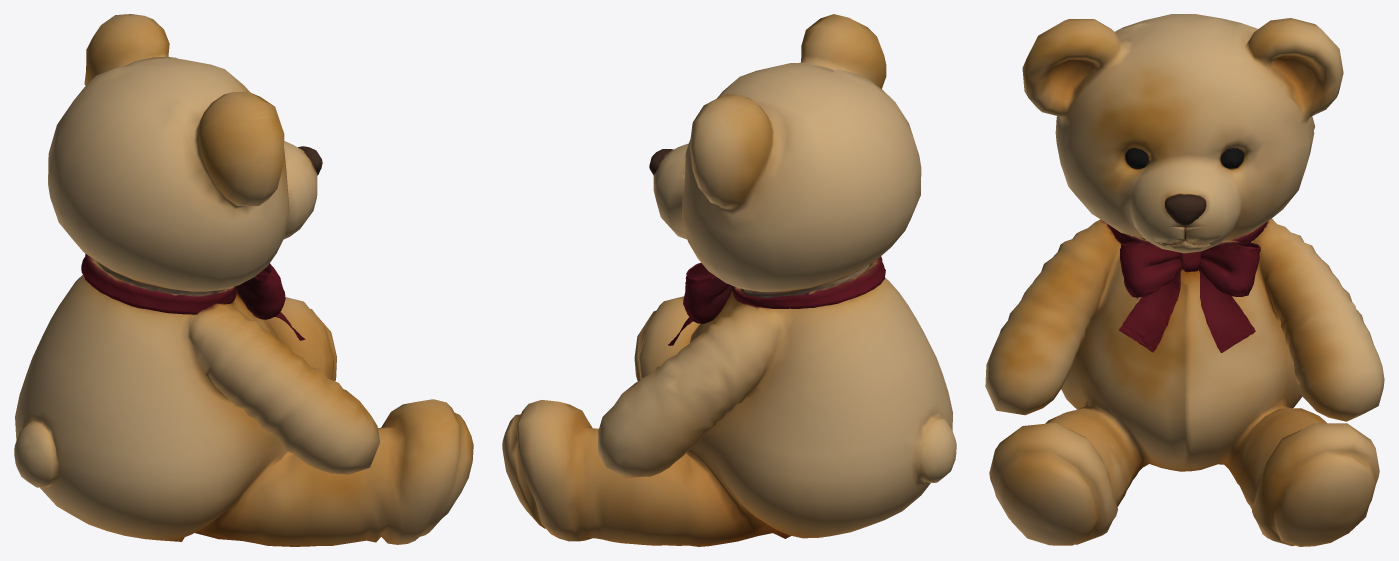
File: royal-teddy.glb
The picture shows the model from 3 angles, left to right: view 1: azimuth 30°, elevation 25°; view 2: azimuth 150°, elevation 25°; view 3: azimuth 270°, elevation 25°; orthographic projection. The views are drawn at different scales.
Parts seen in each view (by area): view 1: tripo_node_062a589c-1f6a-4b80-8273-0aeee71d2b18; view 2: tripo_node_062a589c-1f6a-4b80-8273-0aeee71d2b18; view 3: tripo_node_062a589c-1f6a-4b80-8273-0aeee71d2b18.
Part boxes in pixels (x1,y1,x2,y2): tripo_node_062a589c-1f6a-4b80-8273-0aeee71d2b18: [14, 14, 473, 546]; tripo_node_062a589c-1f6a-4b80-8273-0aeee71d2b18: [502, 14, 956, 546]; tripo_node_062a589c-1f6a-4b80-8273-0aeee71d2b18: [985, 14, 1384, 546].
Bounding box in the file's own units: 0.8496 × 0.998 × 0.7988.
Materials: 1 (1 with a texture image).
